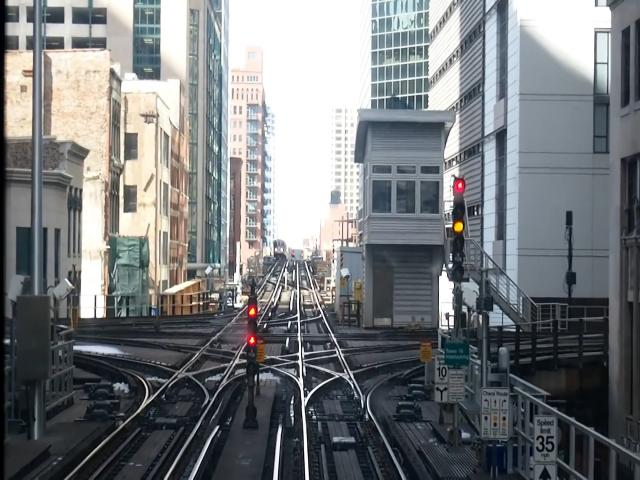signal light: (449, 174, 469, 290), (247, 296, 262, 380)
